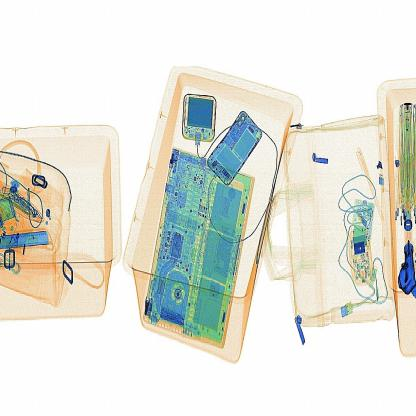pliers: (0, 227, 57, 262)
